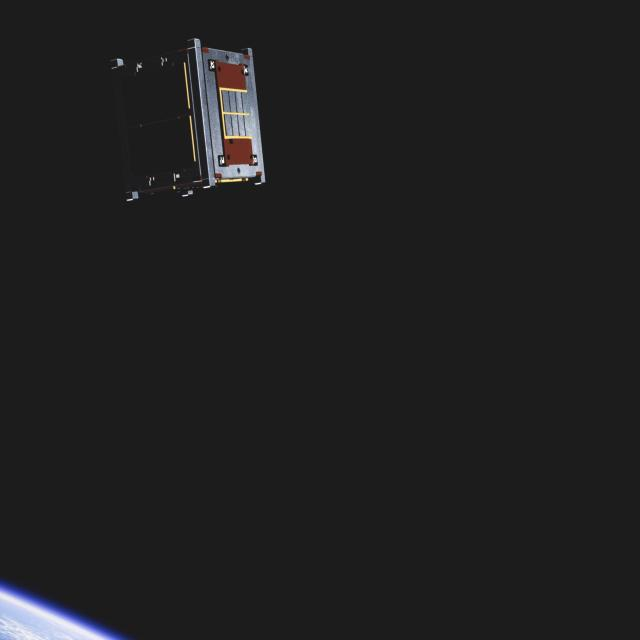medium_debris: (80, 28, 268, 211)
